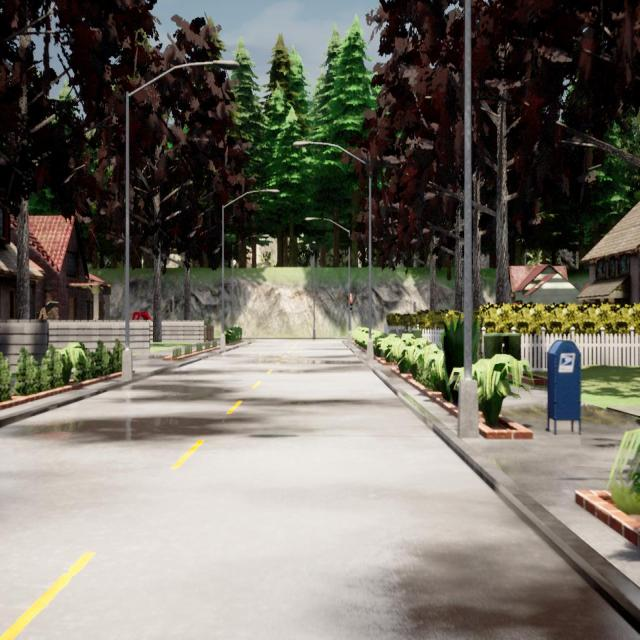traffic_light: (350, 298, 352, 310)
